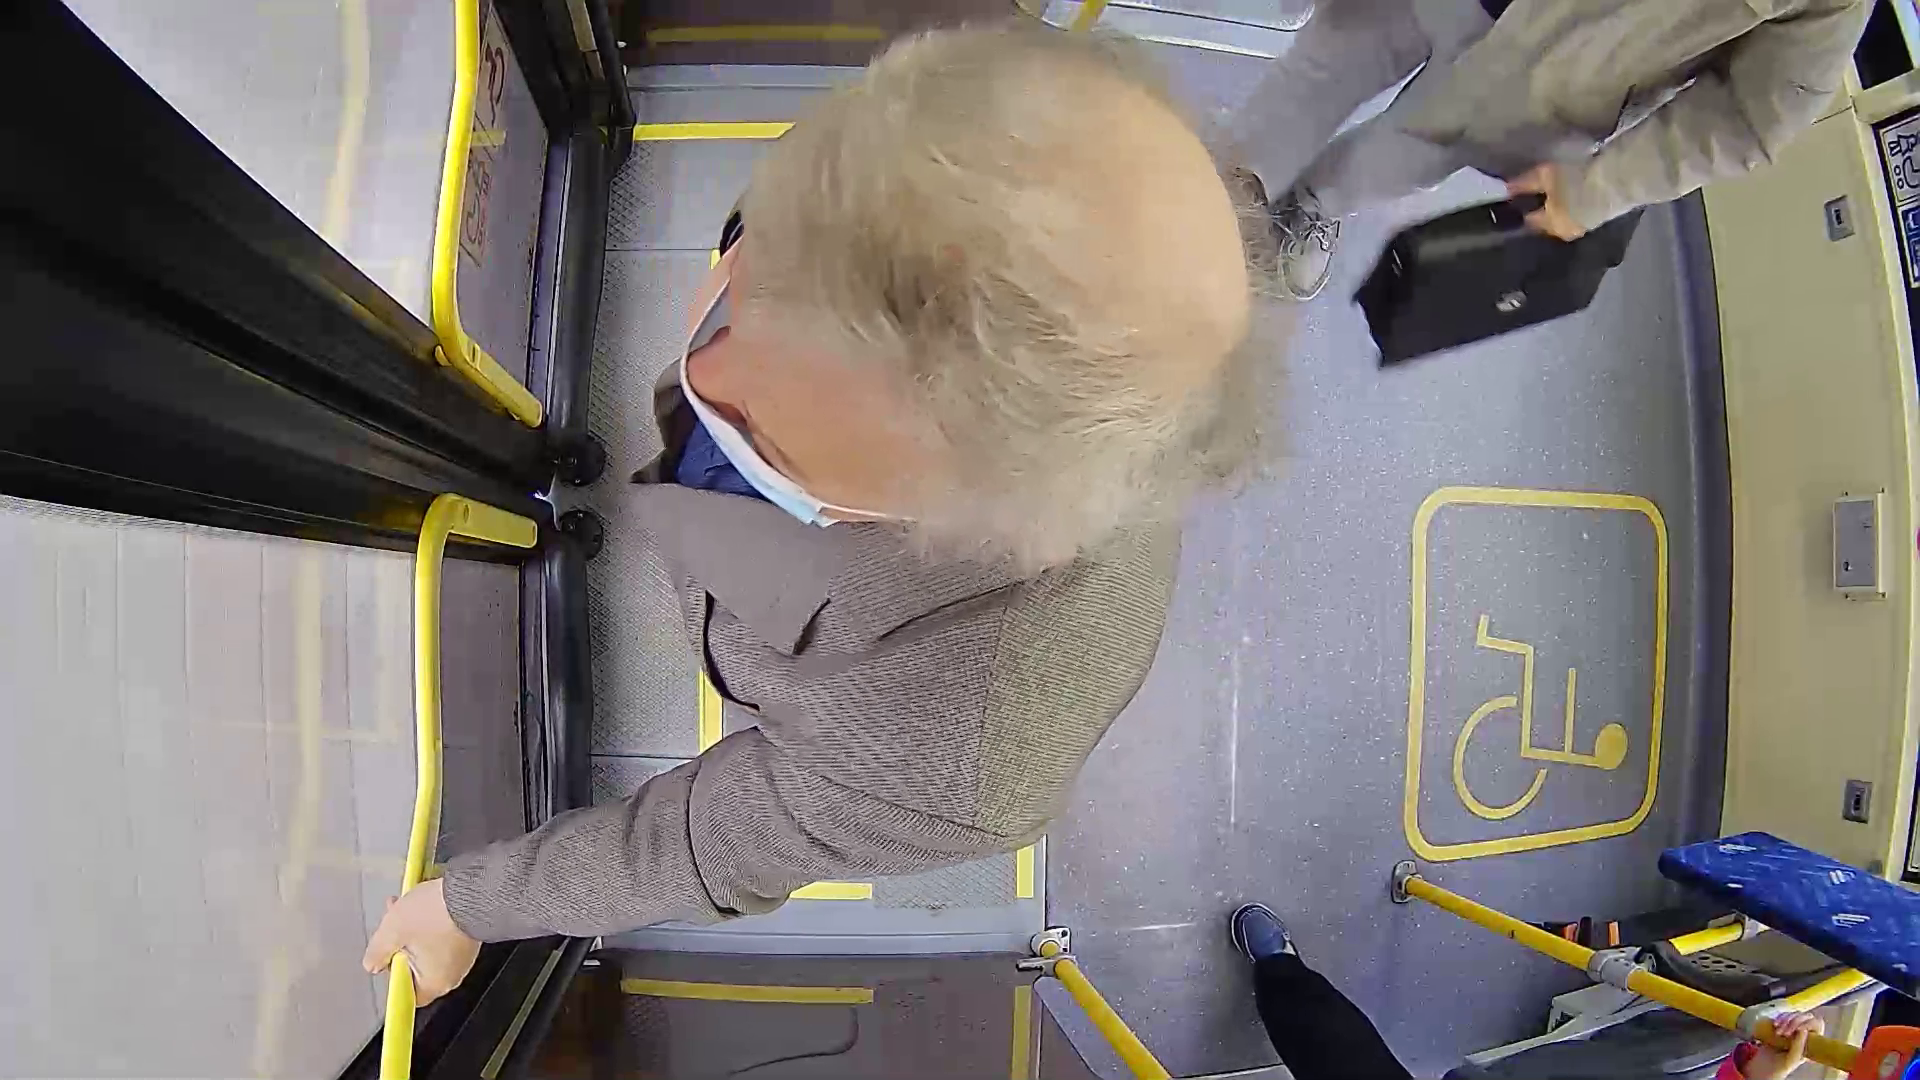person: (565, 65, 1411, 976)
